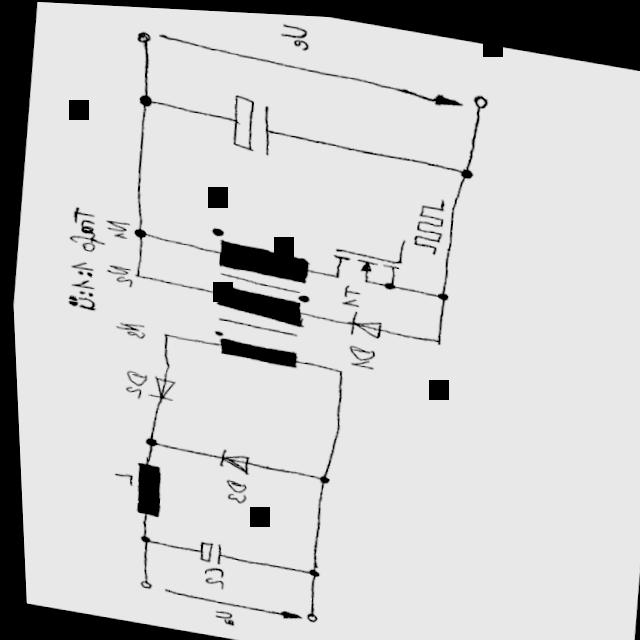capacitor: (226, 88, 275, 155), (190, 536, 221, 563)
diode: (342, 304, 381, 335), (143, 372, 173, 403), (212, 444, 246, 471)
inductor: (127, 457, 161, 517)
junction: (133, 88, 155, 108), (455, 159, 473, 175), (138, 432, 156, 447), (129, 224, 146, 238), (301, 562, 315, 575), (132, 531, 147, 543), (433, 285, 447, 296), (312, 469, 326, 480), (158, 328, 168, 337), (331, 362, 340, 371), (431, 332, 440, 339), (130, 270, 138, 276)
terminal: (470, 87, 490, 107), (134, 26, 155, 44), (132, 576, 148, 588), (297, 608, 312, 619), (398, 232, 405, 239)
text: (59, 199, 106, 314), (278, 18, 310, 47), (343, 338, 374, 366), (119, 365, 144, 398), (217, 473, 243, 501), (111, 316, 144, 338), (103, 262, 131, 286), (100, 215, 128, 238), (195, 562, 221, 586), (337, 280, 360, 304), (107, 467, 131, 489), (205, 605, 229, 623)
transformer: (196, 220, 315, 369)
transistor: (325, 241, 402, 289)
